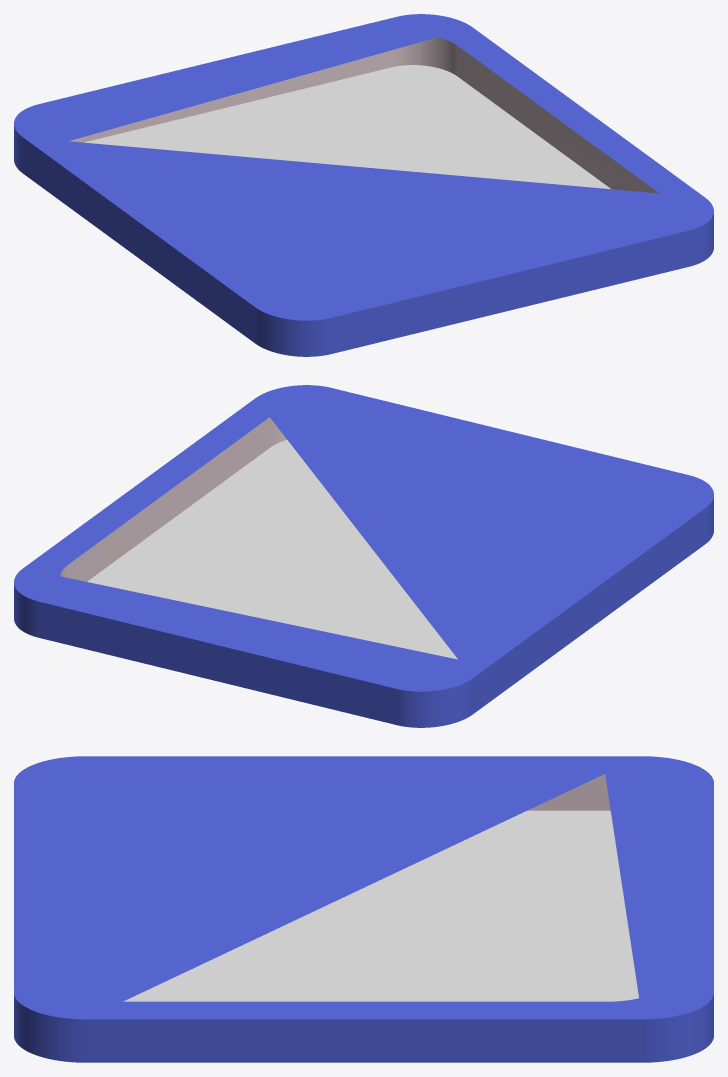
Rendered from SmoothWindowStencil.fbx.
3 renders of one model, top to bottom at view 1: azimuth 30°, elevation 25°; view 2: azimuth 150°, elevation 25°; view 3: azimuth 270°, elevation 25°, orthographic. The views are drawn at different scales.
Visible parts, largest first — view 1: WindowFrame.002, StencilMesh, WindowFrame; view 2: WindowFrame.002, StencilMesh, WindowFrame; view 3: WindowFrame.002, StencilMesh, WindowFrame.
Part boxes in pixels (bbox=[...]): WindowFrame.002: bbox=[14, 14, 713, 356]; StencilMesh: bbox=[84, 65, 610, 188]; WindowFrame: bbox=[69, 37, 658, 193]; WindowFrame.002: bbox=[14, 385, 713, 727]; StencilMesh: bbox=[87, 440, 457, 659]; WindowFrame: bbox=[60, 417, 286, 581]; WindowFrame.002: bbox=[14, 756, 713, 1062]; StencilMesh: bbox=[123, 810, 638, 1001]; WindowFrame: bbox=[528, 774, 610, 810].
Bounding box in the file's own units: 449 × 34.52 × 505.
